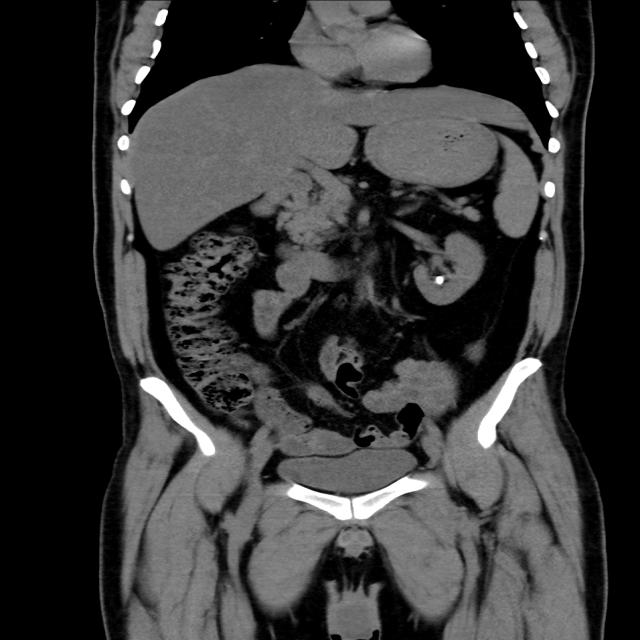kidneystone: (435, 275, 446, 285)
